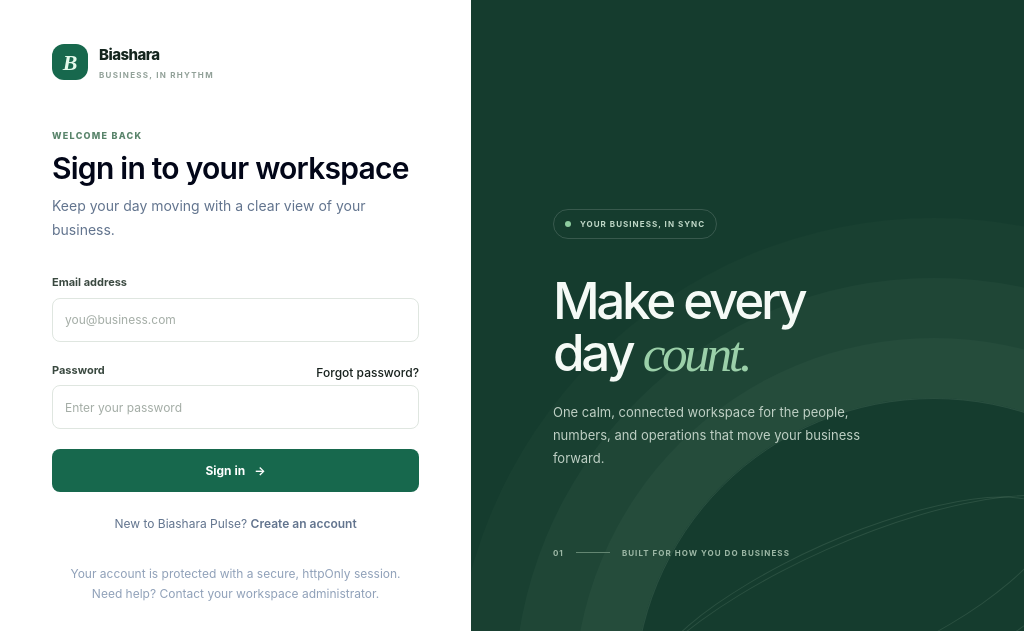
it: application shell › signs in and renders the protected dashboard
The image size is (1024, 631).
Type "owner@example.test" into the field labelled "Email address" at x=236, y=320, box 52,298 -> 419,342
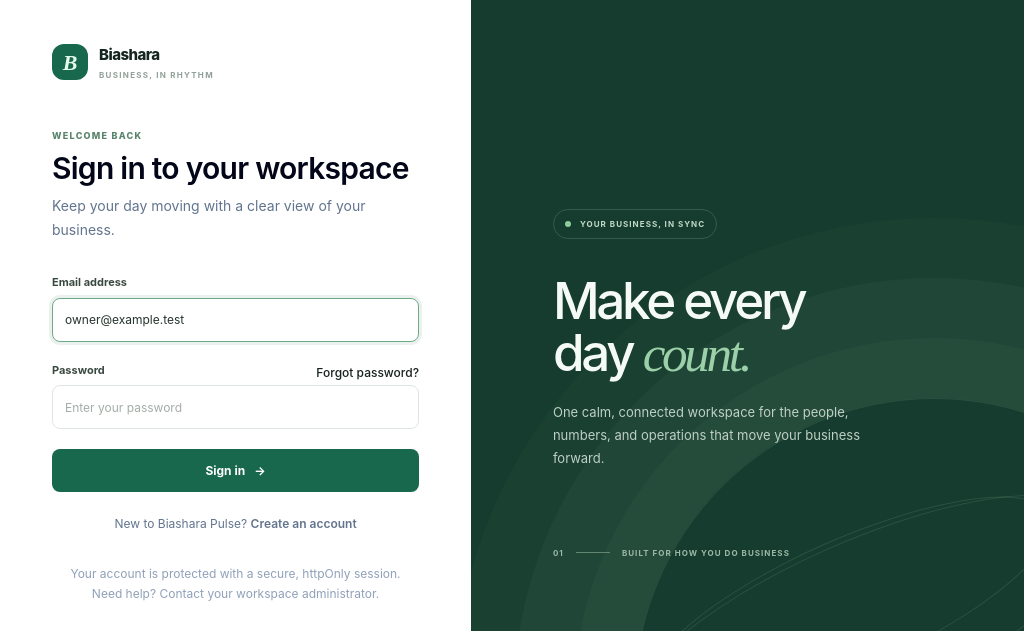
Type "secret-password" into the password field labelled "Password" at x=236, y=407, box 52,385 -> 419,429
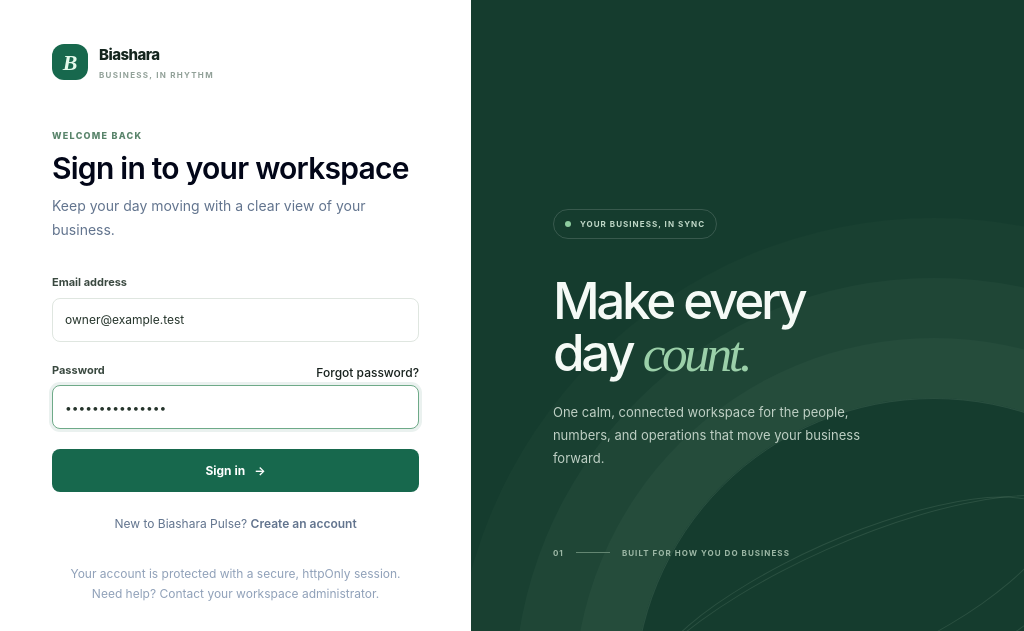
Click the button "Sign in →" at x=236, y=470, box 52,449 -> 419,492
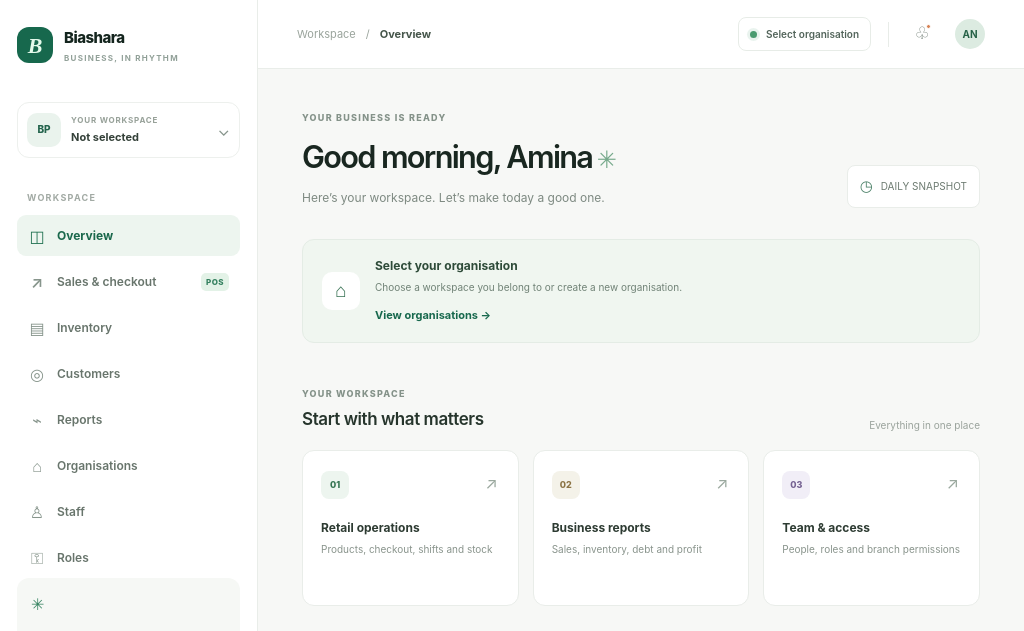
Check: the heading "Good morning, Amina ✳" is shown, box 302,134 -> 615,180
Check: the navigation bar named "Main navigation" is shown, box 17,215 -> 240,578
